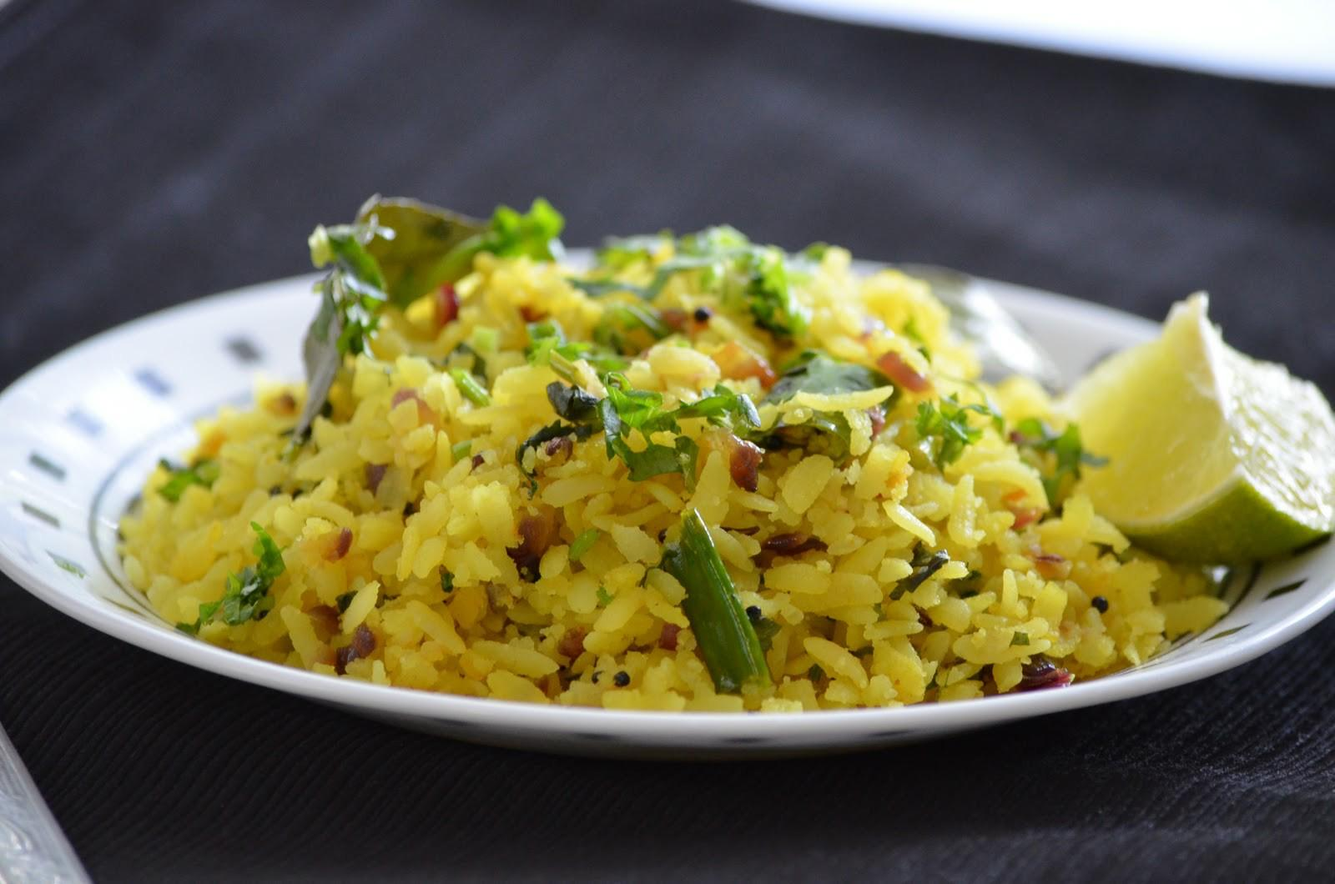Poha: (138, 163, 1208, 711)
